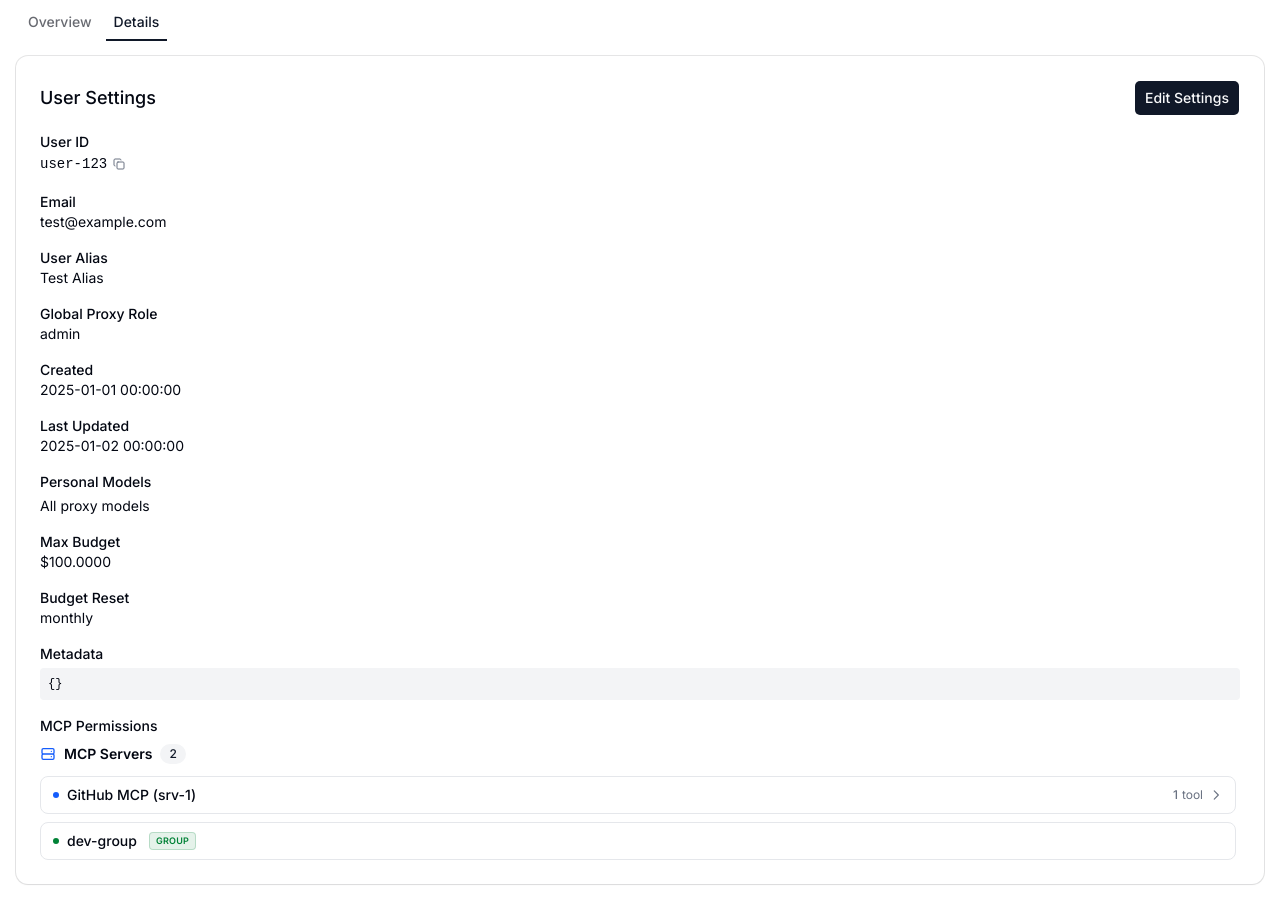
UserInfoView › MCP permissions › should render the user's MCP entitlements in read mode
(page scrolled)
Expected: the text "MCP Permissions" is shown, [40,717,158,734]
Expected: the text "dev-group" is shown, [67,831,137,851]
Click the text "GitHub MCP (srv-1)" at point(132, 795), box [67,785,196,805]
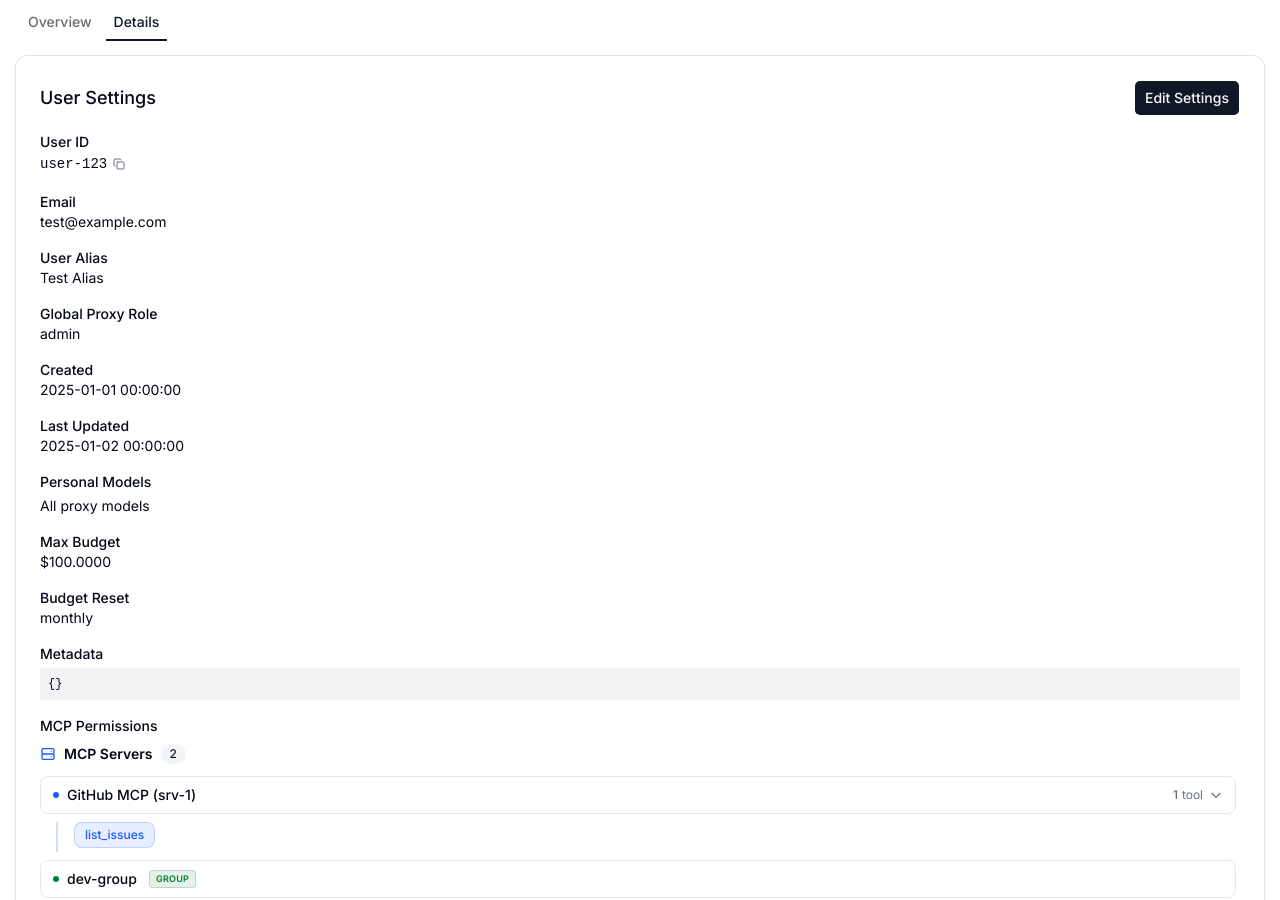
Expected: the text "list_issues" is shown, [74,822,155,848]
